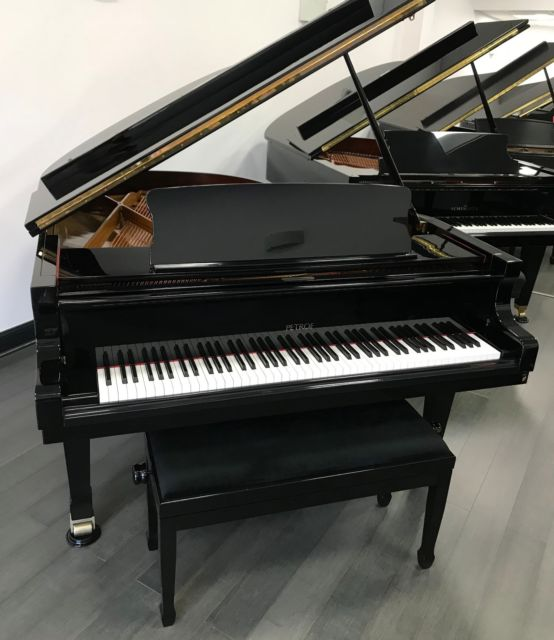GrandPiano: (16, 64, 544, 416)
